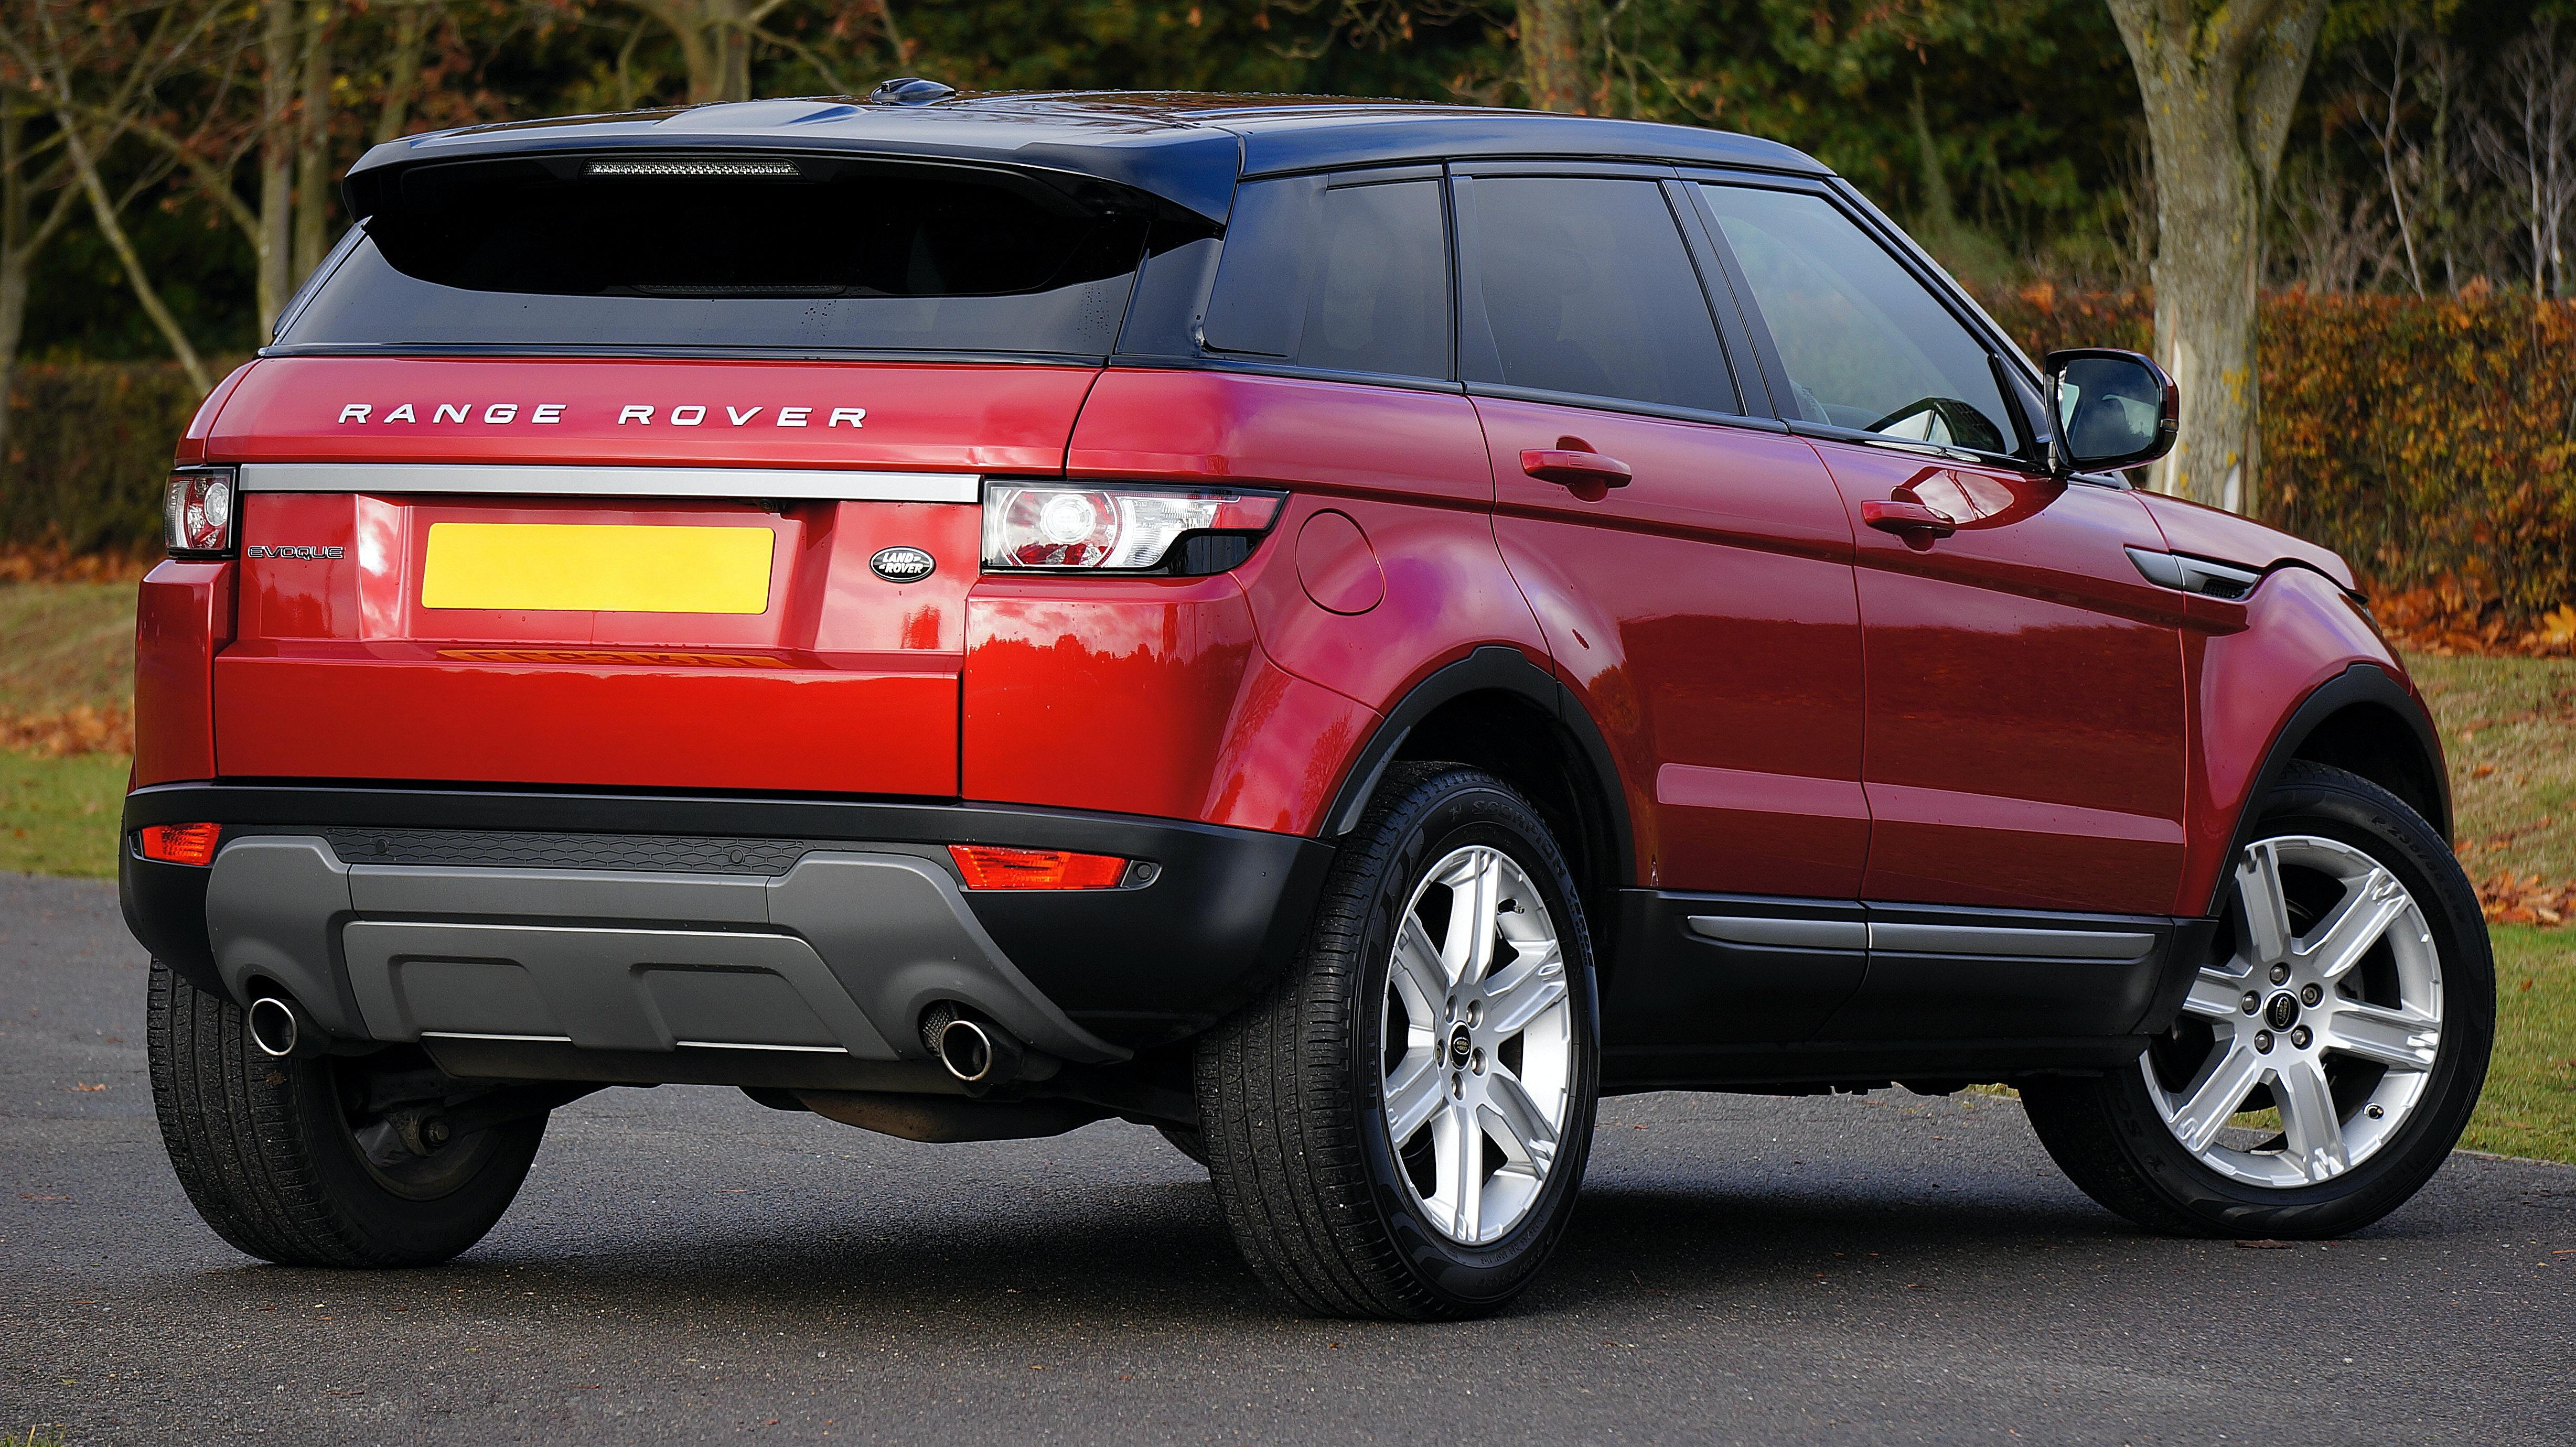range rover: (313, 375, 911, 458)
